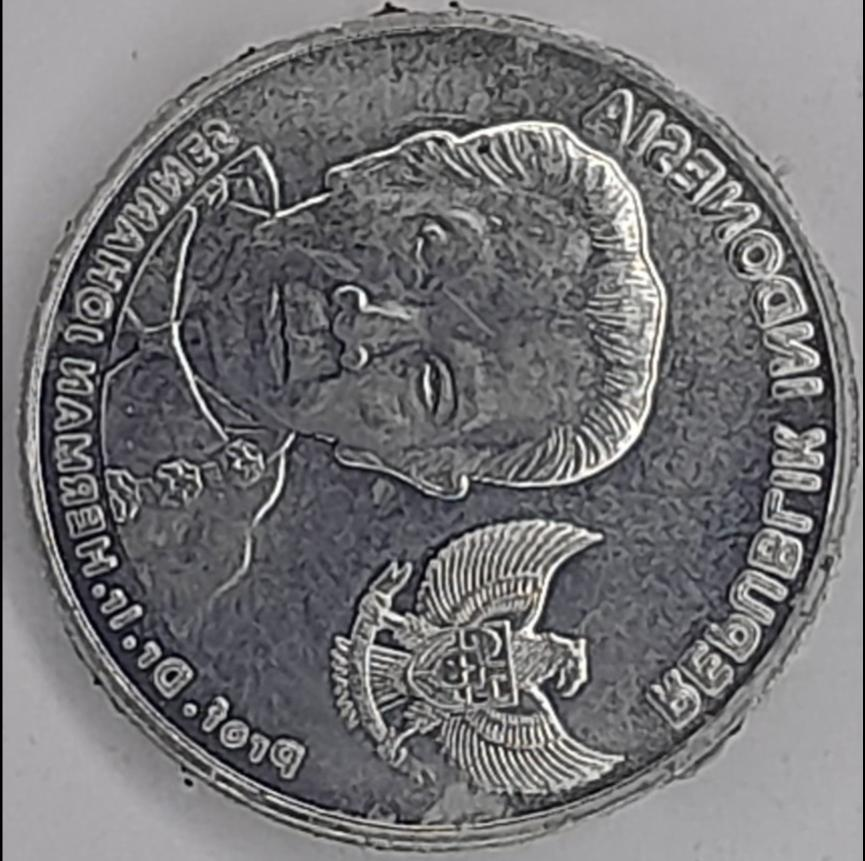coin_100_e2016: (13, 0, 861, 856)
